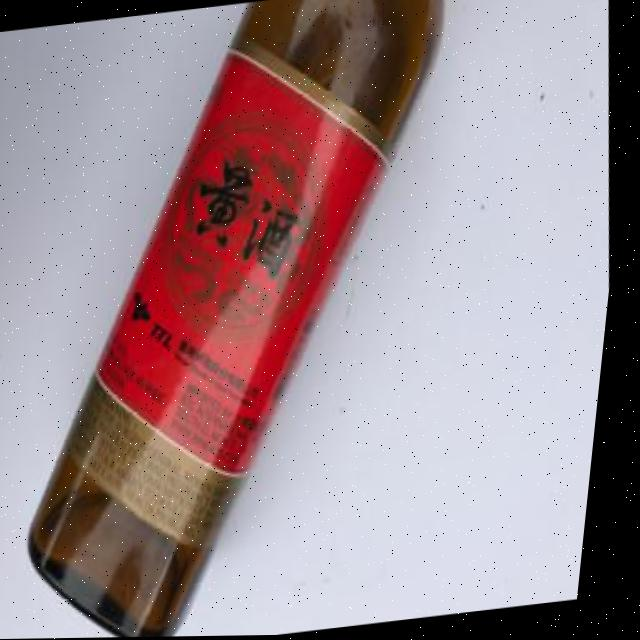glass: (0, 0, 516, 640)
